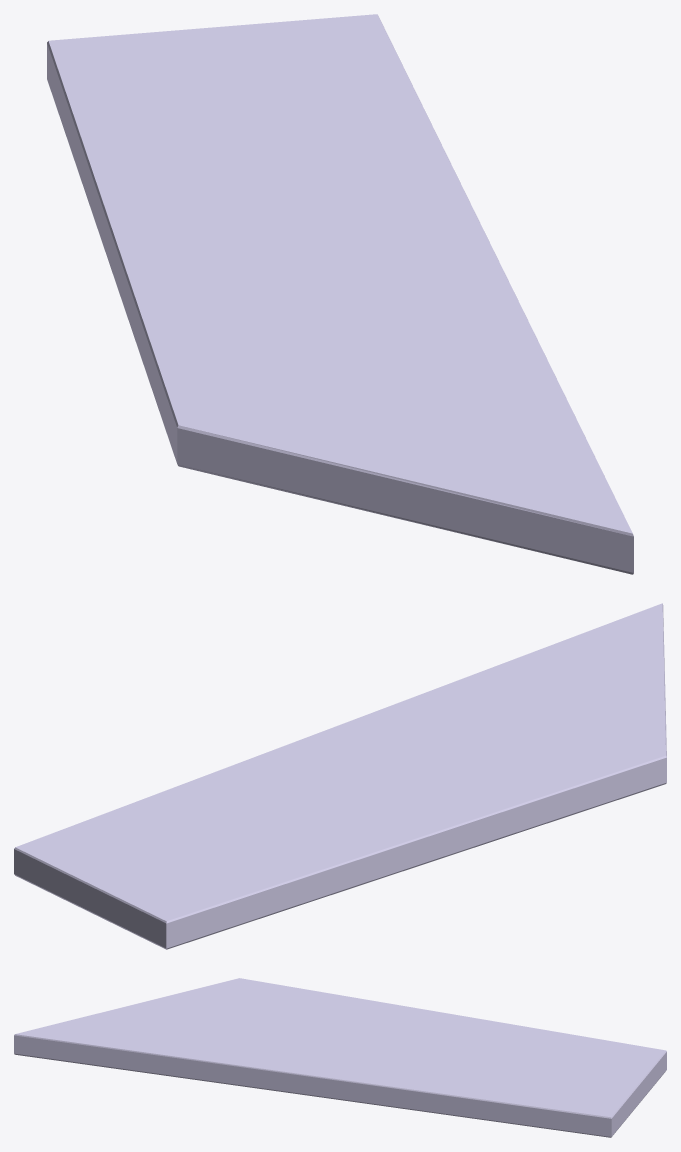
The model's file is BHR.glb.
3 renders of one model, top to bottom at view 1: azimuth 30°, elevation 25°; view 2: azimuth 150°, elevation 25°; view 3: azimuth 270°, elevation 25°, orthographic. The views are drawn at different scales.
Bounding box in the file's own units: 0.9912 × 0.068 × 1.96.
